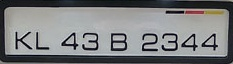character: (60, 29, 80, 50), (140, 32, 159, 52), (200, 31, 219, 51), (81, 31, 99, 52), (14, 30, 33, 49), (109, 32, 128, 51), (161, 32, 179, 52), (181, 33, 199, 52), (34, 30, 50, 50)
